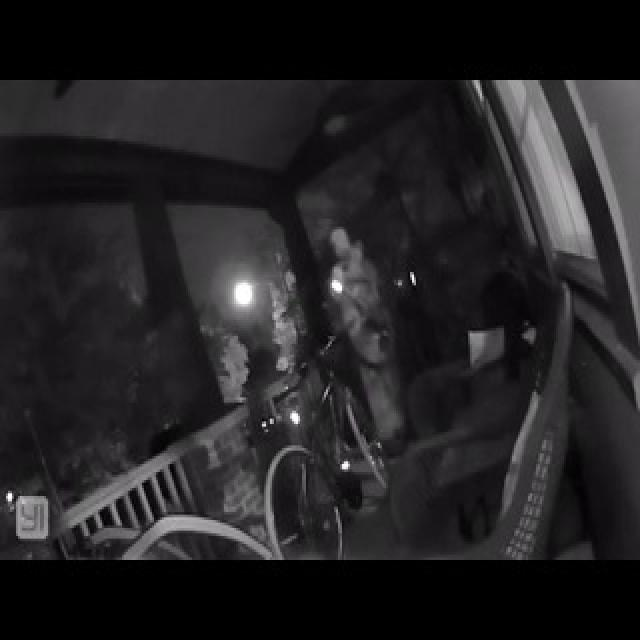thief: (315, 252, 451, 418)
